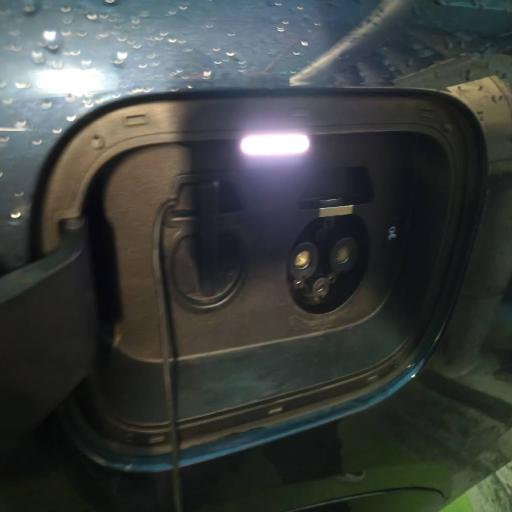DC_hole: (289, 241, 319, 282), (328, 235, 359, 274)
PE: (312, 277, 329, 300)
charging_port: (284, 214, 372, 320)
